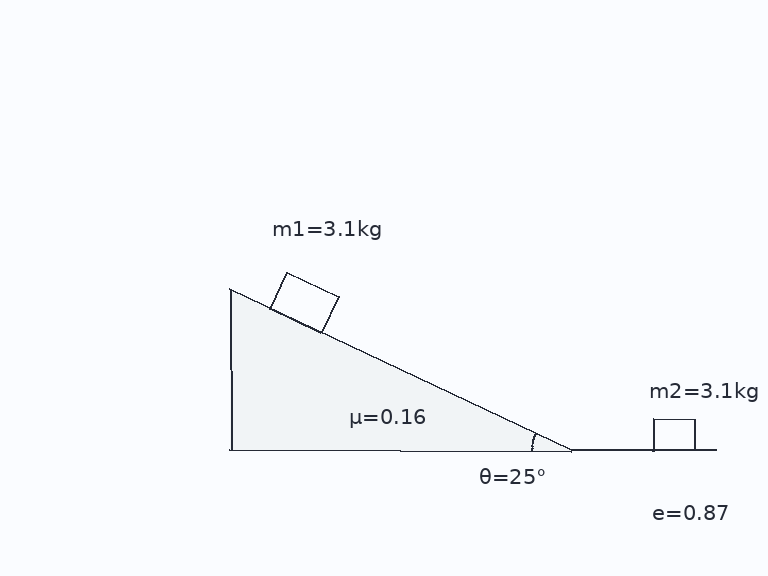block: (268, 270, 340, 335), (651, 417, 697, 452)
ramp: (228, 289, 574, 452)
